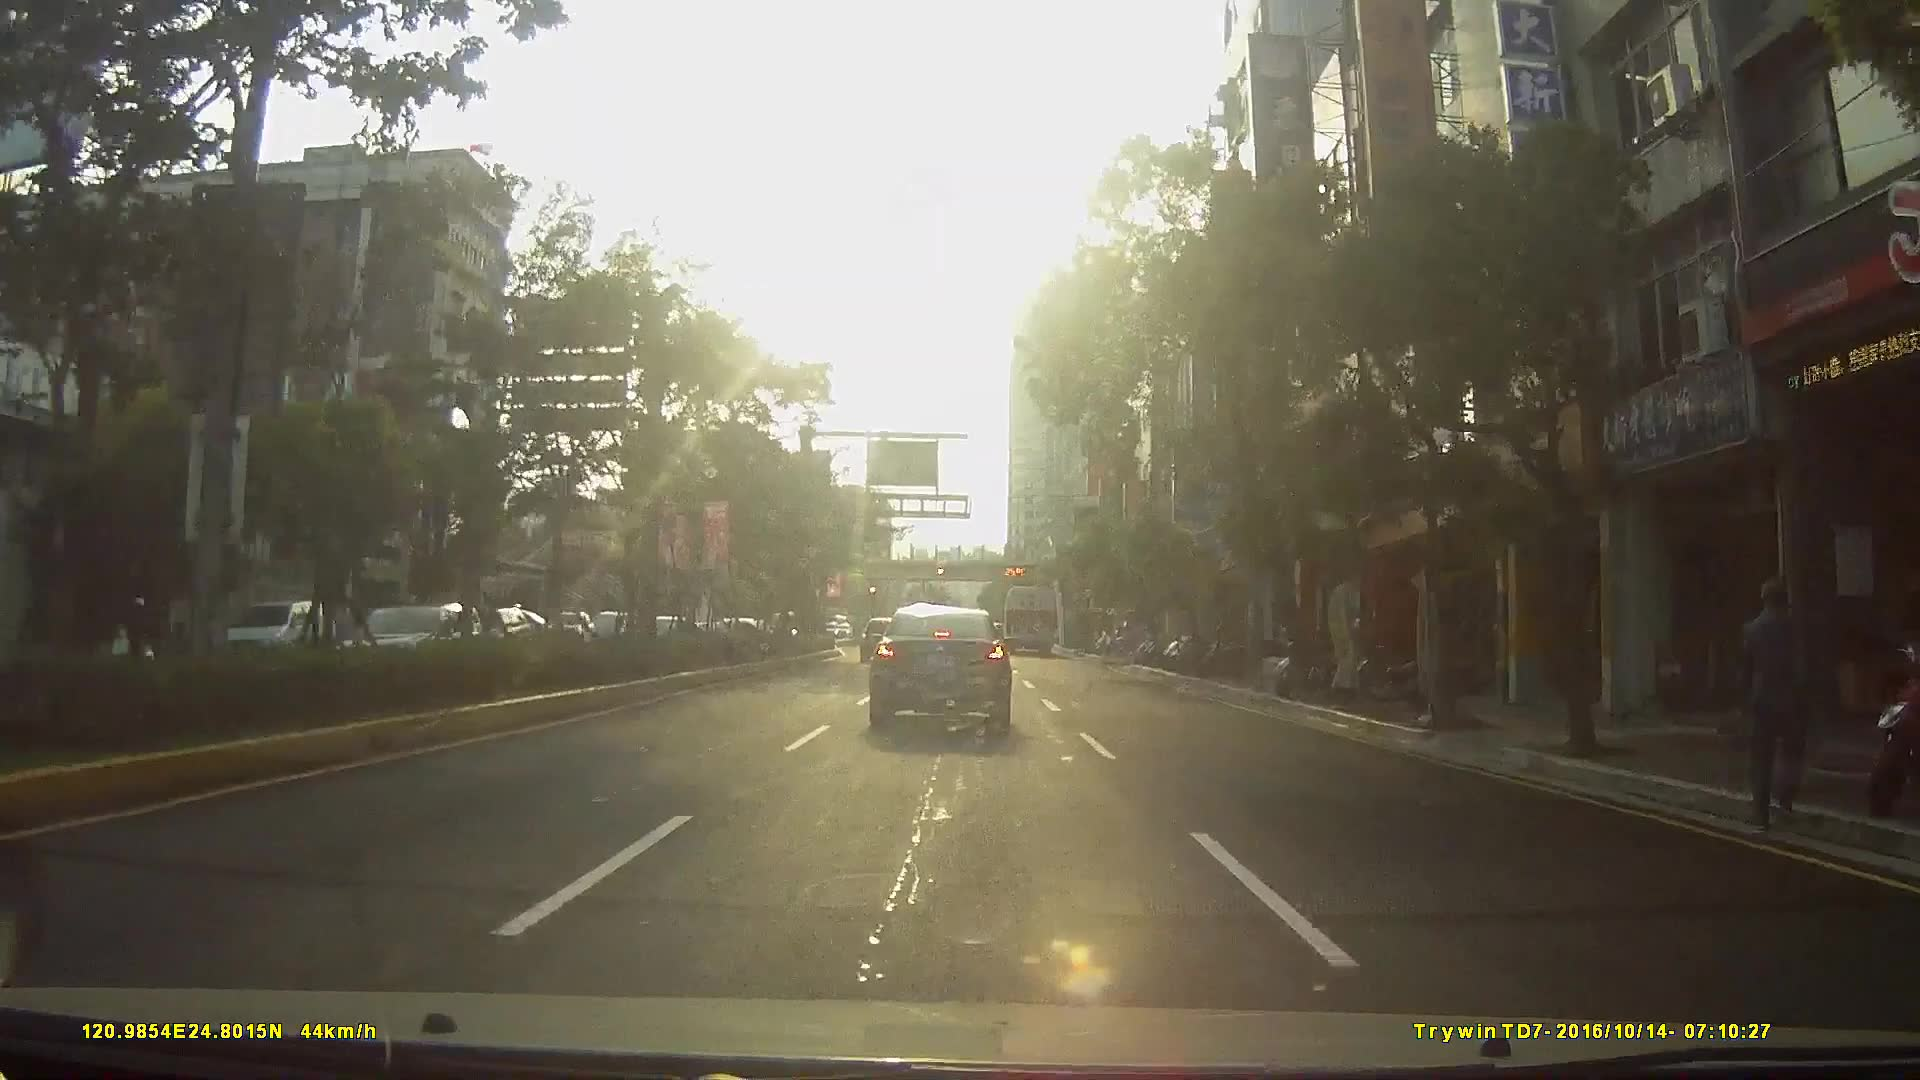pedestrian: (1733, 566, 1821, 840)
vehicle: (865, 599, 1013, 727), (335, 600, 494, 682), (211, 598, 330, 666), (999, 581, 1059, 651), (470, 603, 529, 646), (859, 616, 899, 661), (542, 608, 593, 642)
